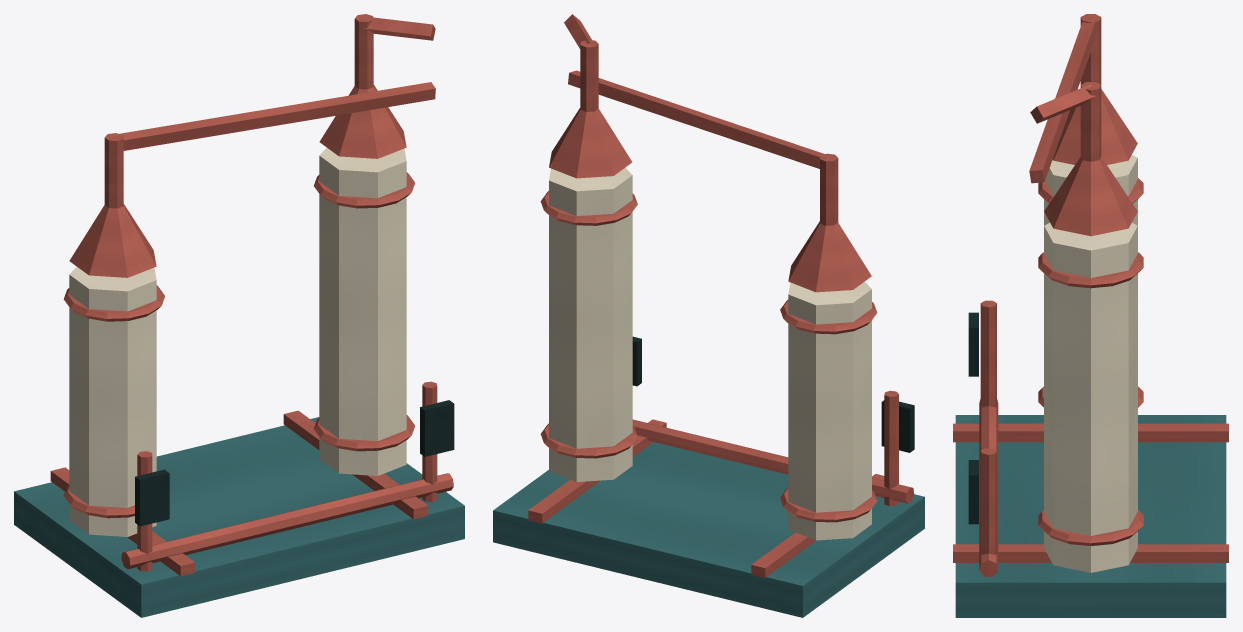
File: atlas100-s034-a01.lod1.glb
3 views of the same model, side by side, from view 1: azimuth 30°, elevation 25°; view 2: azimuth 150°, elevation 25°; view 3: azimuth 270°, elevation 25° (orthographic). The views are drawn at different scales.
Visible parts, largest first — view 1: atlas100-s034-a01:part-000, atlas100-s034-a01:part-010, atlas100-s034-a01:part-003, atlas100-s034-a01:part-021, atlas100-s034-a01:part-009, atlas100-s034-a01:part-007, atlas100-s034-a01:part-014, atlas100-s034-a01:part-018, atlas100-s034-a01:part-020, atlas100-s034-a01:part-002, atlas100-s034-a01:part-008, atlas100-s034-a01:part-015 (+8 smaller); view 2: atlas100-s034-a01:part-000, atlas100-s034-a01:part-010, atlas100-s034-a01:part-003, atlas100-s034-a01:part-009, atlas100-s034-a01:part-007, atlas100-s034-a01:part-014, atlas100-s034-a01:part-021, atlas100-s034-a01:part-002, atlas100-s034-a01:part-017, atlas100-s034-a01:part-008, atlas100-s034-a01:part-015, atlas100-s034-a01:part-001 (+5 smaller); view 3: atlas100-s034-a01:part-000, atlas100-s034-a01:part-010, atlas100-s034-a01:part-014, atlas100-s034-a01:part-001, atlas100-s034-a01:part-002, atlas100-s034-a01:part-007, atlas100-s034-a01:part-009, atlas100-s034-a01:part-017, atlas100-s034-a01:part-019, atlas100-s034-a01:part-021, atlas100-s034-a01:part-015, atlas100-s034-a01:part-003 (+7 smaller).
Boxes of the visible parts, x1,y1,x2,y2 form: atlas100-s034-a01:part-000: (14, 417, 464, 617); atlas100-s034-a01:part-010: (319, 148, 406, 475); atlas100-s034-a01:part-003: (69, 266, 156, 536); atlas100-s034-a01:part-021: (121, 473, 453, 569); atlas100-s034-a01:part-009: (113, 82, 435, 150); atlas100-s034-a01:part-007: (69, 204, 156, 277); atlas100-s034-a01:part-014: (319, 85, 406, 158); atlas100-s034-a01:part-018: (135, 469, 169, 526); atlas100-s034-a01:part-020: (420, 400, 454, 456); atlas100-s034-a01:part-002: (283, 410, 428, 519); atlas100-s034-a01:part-008: (104, 133, 123, 208); atlas100-s034-a01:part-015: (354, 14, 373, 89); atlas100-s034-a01:part-000: (493, 442, 924, 617); atlas100-s034-a01:part-010: (549, 167, 632, 481); atlas100-s034-a01:part-003: (788, 281, 871, 540); atlas100-s034-a01:part-009: (568, 70, 825, 168); atlas100-s034-a01:part-007: (788, 221, 871, 292); atlas100-s034-a01:part-014: (549, 108, 632, 178); atlas100-s034-a01:part-021: (632, 419, 914, 503); atlas100-s034-a01:part-002: (528, 419, 666, 523); atlas100-s034-a01:part-017: (884, 390, 898, 505); atlas100-s034-a01:part-008: (820, 153, 838, 225); atlas100-s034-a01:part-015: (580, 40, 598, 111); atlas100-s034-a01:part-001: (751, 474, 884, 577); atlas100-s034-a01:part-000: (955, 415, 1226, 617); atlas100-s034-a01:part-010: (1044, 223, 1137, 572); atlas100-s034-a01:part-014: (1044, 157, 1137, 236); atlas100-s034-a01:part-001: (953, 423, 1228, 442); atlas100-s034-a01:part-002: (953, 544, 1228, 562); atlas100-s034-a01:part-007: (1052, 89, 1137, 164); atlas100-s034-a01:part-009: (1029, 18, 1097, 183); atlas100-s034-a01:part-017: (980, 300, 996, 407); atlas100-s034-a01:part-019: (980, 448, 996, 554); atlas100-s034-a01:part-021: (979, 399, 998, 576); atlas100-s034-a01:part-015: (1080, 82, 1101, 161); atlas100-s034-a01:part-003: (1044, 155, 1137, 225).
Size of the model in its own units: 2.8 by 3.78 by 1.84.
Materials: 5 (5 with a texture image).
